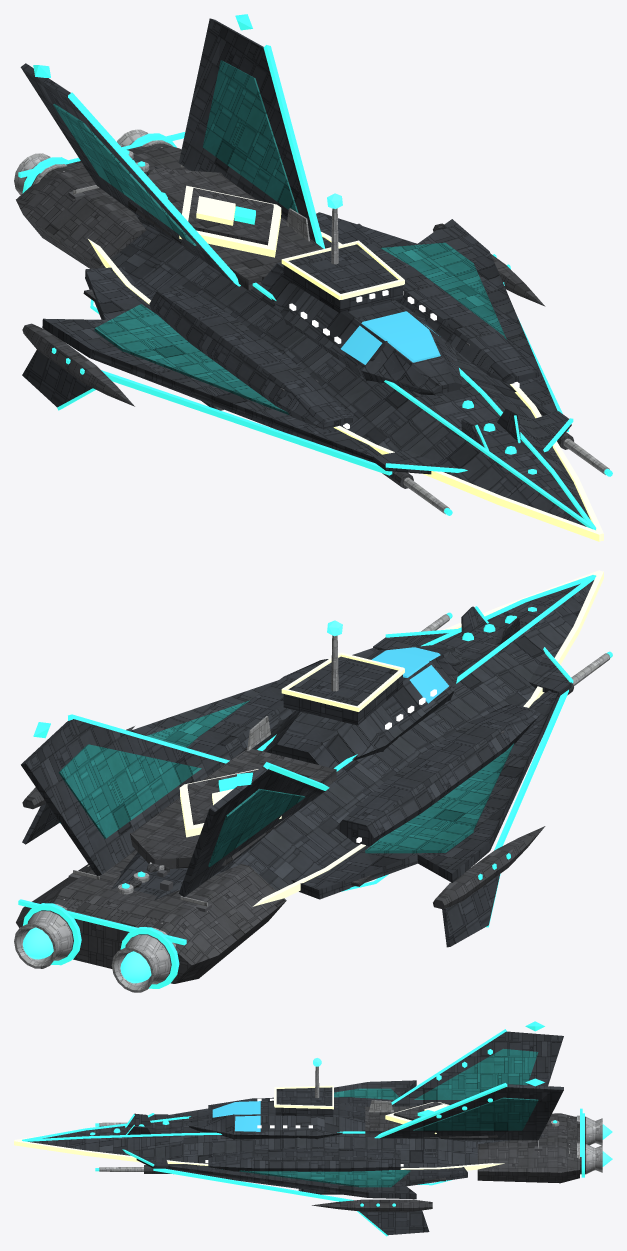
Rendered from mirage_wreck.glb.
3 renders of one model, top to bottom at view 1: azimuth 30°, elevation 25°; view 2: azimuth 150°, elevation 25°; view 3: azimuth 270°, elevation 25°, orthographic. The views are drawn at different scales.
Parts seen in each view (by area): view 1: mirage_wreck_06, mirage_wreck_05, mirage_wreck_03, mirage_wreck_08, mirage_wreck_12, mirage_wreck_10, mirage_wreck_11, mirage_wreck_07, mirage_wreck_04, mirage_wreck_02, mirage_wreck_00, mirage_wreck_01 (+2 smaller); view 2: mirage_wreck_05, mirage_wreck_06, mirage_wreck_10, mirage_wreck_01, mirage_wreck_03, mirage_wreck_08, mirage_wreck_11, mirage_wreck_12, mirage_wreck_00, mirage_wreck_07, mirage_wreck_09, mirage_wreck_04 (+2 smaller); view 3: mirage_wreck_07, mirage_wreck_08, mirage_wreck_01, mirage_wreck_02, mirage_wreck_11, mirage_wreck_04, mirage_wreck_09, mirage_wreck_03, mirage_wreck_06, mirage_wreck_13, mirage_wreck_05, mirage_wreck_10 (+2 smaller).
Part boxes in pixels (box(x1,y1,x2,y2)): mirage_wreck_06: box(206, 262, 452, 421); mirage_wreck_05: box(22, 295, 238, 413); mirage_wreck_03: box(83, 143, 276, 309); mirage_wreck_08: box(176, 14, 364, 247); mirage_wreck_12: box(230, 365, 452, 479); mirage_wreck_10: box(14, 124, 177, 268); mirage_wreck_11: box(217, 187, 383, 327); mirage_wreck_07: box(338, 219, 545, 319); mirage_wreck_04: box(441, 361, 612, 476); mirage_wreck_02: box(395, 291, 551, 392); mirage_wreck_00: box(385, 419, 536, 515); mirage_wreck_01: box(117, 18, 223, 183); mirage_wreck_05: box(365, 770, 545, 947); mirage_wreck_06: box(314, 646, 530, 794); mirage_wreck_10: box(111, 842, 286, 992); mirage_wreck_01: box(14, 755, 171, 968); mirage_wreck_03: box(185, 768, 375, 899); mirage_wreck_08: box(30, 714, 196, 853); mirage_wreck_11: box(183, 620, 385, 805); mirage_wreck_12: box(427, 646, 570, 781); mirage_wreck_00: box(494, 609, 612, 695); mirage_wreck_07: box(22, 710, 255, 844); mirage_wreck_09: box(194, 762, 286, 852); mirage_wreck_04: box(352, 606, 502, 659); mirage_wreck_07: box(297, 1148, 440, 1236); mirage_wreck_08: box(420, 1078, 553, 1182); mirage_wreck_01: box(480, 1086, 612, 1183); mirage_wreck_02: box(203, 1123, 319, 1194); mirage_wreck_11: box(301, 1058, 429, 1162); mirage_wreck_04: box(95, 1118, 214, 1178); mirage_wreck_09: box(470, 1021, 563, 1088); mirage_wreck_03: box(388, 1051, 490, 1118); mirage_wreck_06: box(205, 1085, 320, 1127); mirage_wreck_13: box(14, 1128, 106, 1157); mirage_wreck_05: box(334, 1080, 416, 1108); mirage_wreck_10: box(526, 1076, 612, 1145).
Bounding box in the file's own units: 4.42 × 2.18 × 9.34.
Materials: 13 (5 with a texture image).
